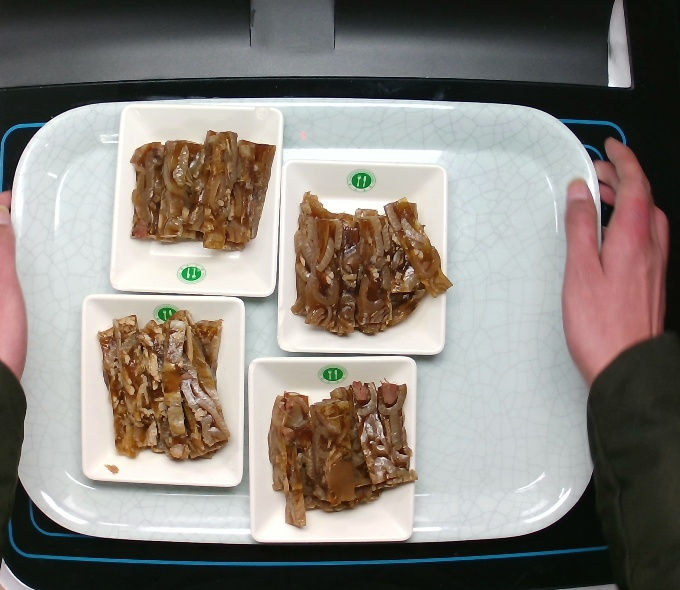wcq-DongZhuPi: (286, 186, 454, 338), (268, 376, 425, 531), (100, 309, 235, 470), (131, 129, 274, 255)
